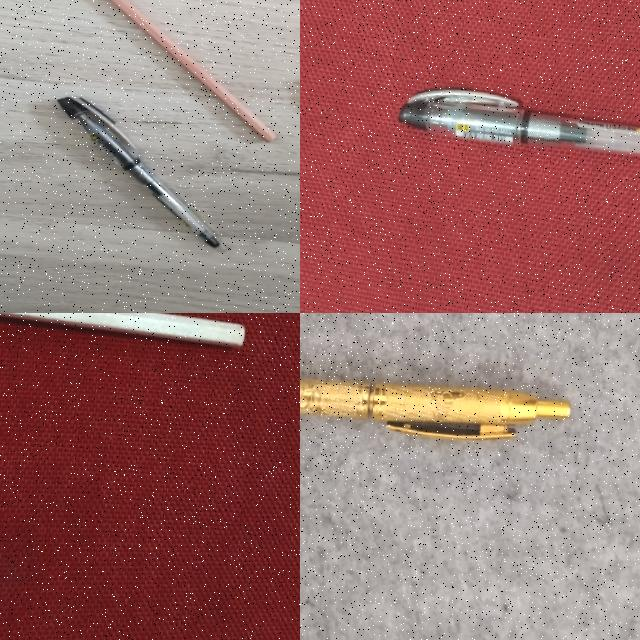pen: (46, 96, 240, 252), (398, 89, 639, 155)
pencil: (34, 0, 293, 142), (0, 313, 243, 346)
signature pen: (300, 381, 569, 439)
